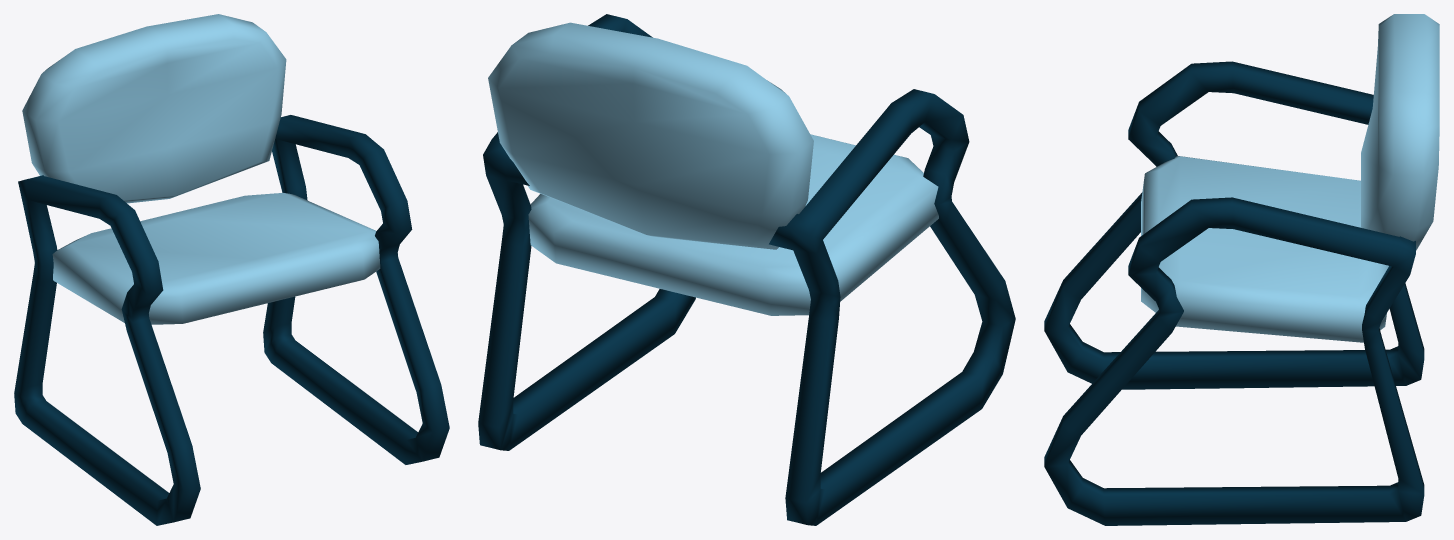
File: Chair3.FBX
3 views of the same model, side by side, from view 1: azimuth 30°, elevation 25°; view 2: azimuth 150°, elevation 25°; view 3: azimuth 270°, elevation 25° (orthographic). The views are drawn at different scales.
Visible parts, largest first — view 1: Chair3; view 2: Chair3; view 3: Chair3.
Part boxes in pixels (bbox=[...]): Chair3: bbox=[14, 14, 449, 525]; Chair3: bbox=[478, 14, 1015, 525]; Chair3: bbox=[1044, 14, 1439, 525].
Size of the model in its own units: 0.821 by 1.07 by 0.9456.
